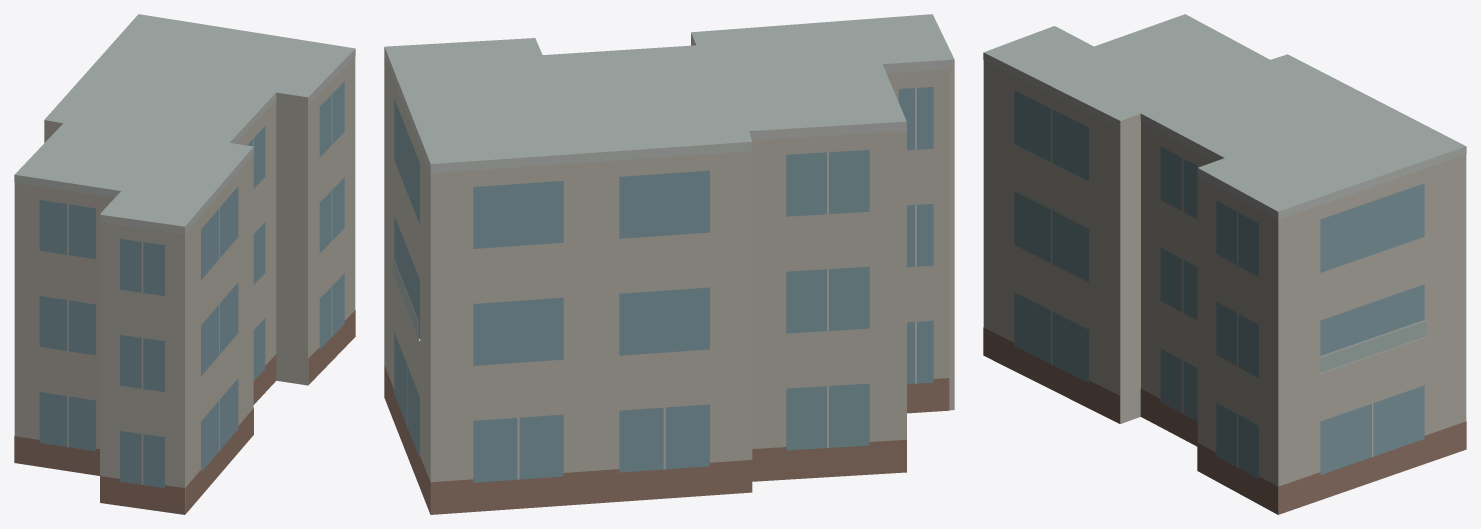
File: survey-upis-33014940.glb
3 views of the same model, side by side, from view 1: azimuth 30°, elevation 25°; view 2: azimuth 150°, elevation 25°; view 3: azimuth 270°, elevation 25° (orthographic). The views are drawn at different scales.
Parts seen in each view (by area): view 1: survey-upis-33014940.tmp; view 2: survey-upis-33014940.tmp; view 3: survey-upis-33014940.tmp.
Part boxes in pixels (x1=…): survey-upis-33014940.tmp: x1=14, y1=14, x2=355, y2=514; survey-upis-33014940.tmp: x1=384, y1=14, x2=954, y2=514; survey-upis-33014940.tmp: x1=983, y1=14, x2=1466, y2=514.
Bounding box in the file's own units: 12.81 × 9.15 × 13.22.
